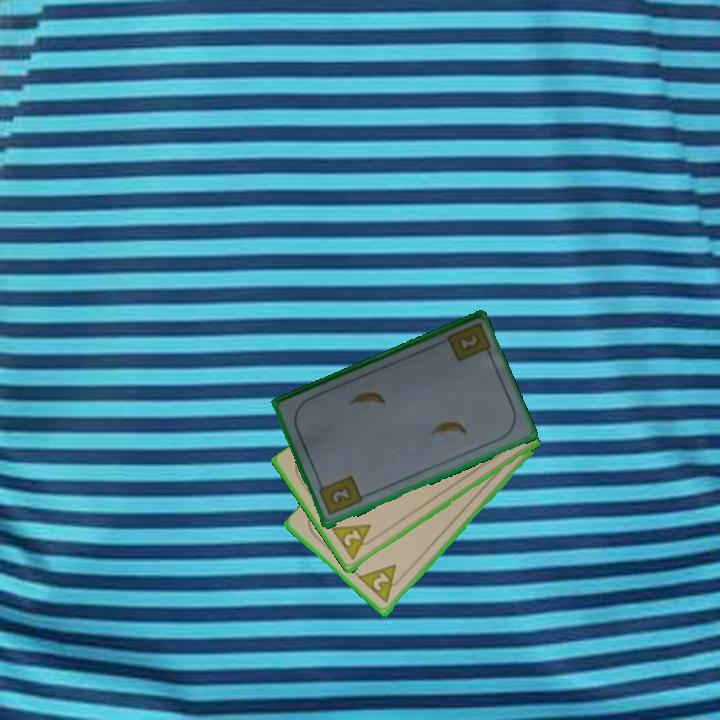2b: (315, 472, 365, 519), (454, 331, 480, 355)
2p: (356, 561, 409, 606), (328, 521, 380, 563)
